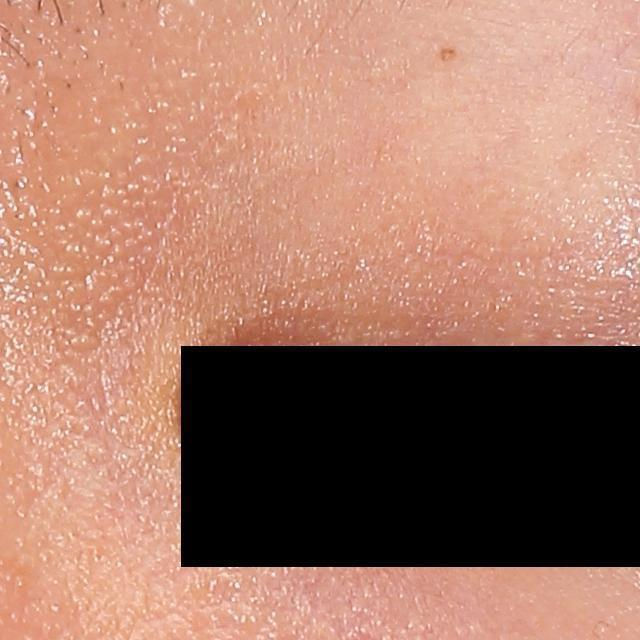nevus: (437, 45, 460, 65)
